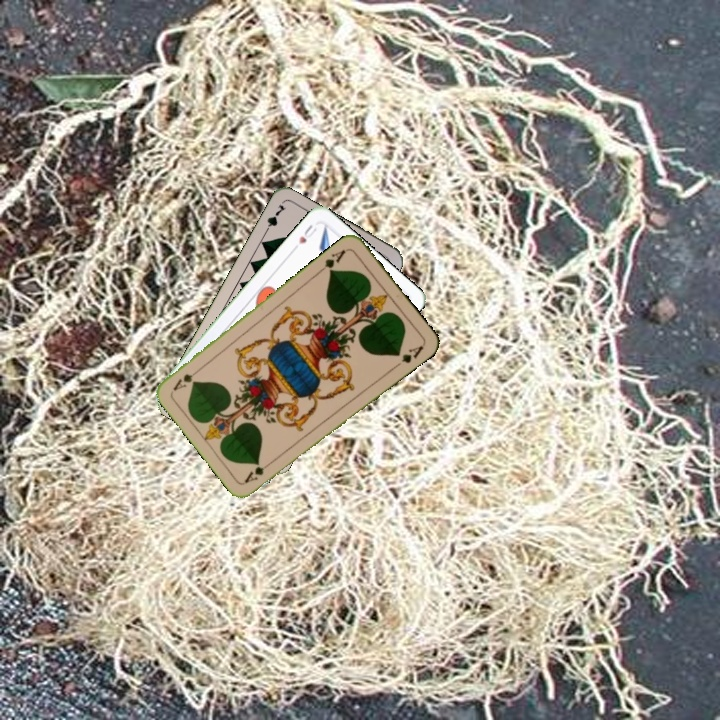G7: (260, 200, 289, 237)
GA: (315, 245, 350, 276), (240, 457, 276, 486)
HU: (289, 221, 319, 252)
